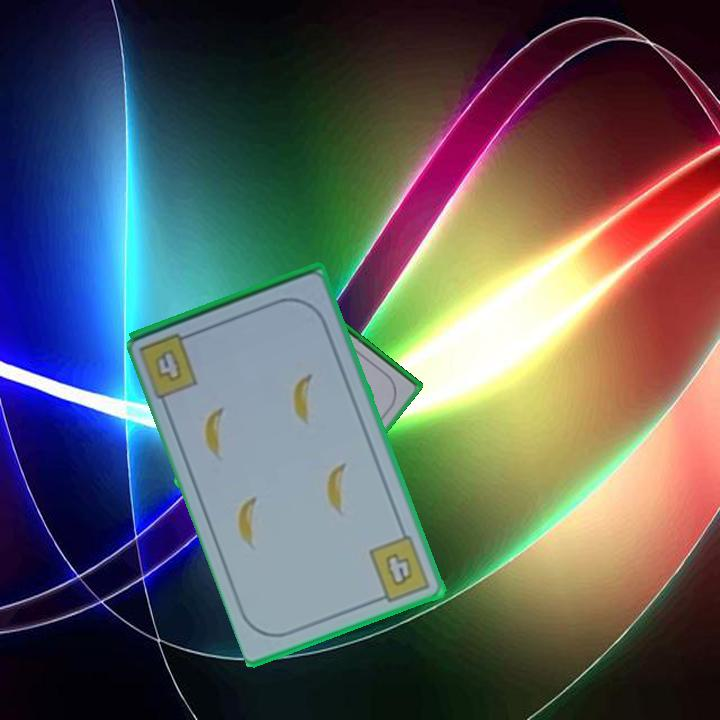4b: (365, 532, 434, 606), (155, 349, 183, 382)
